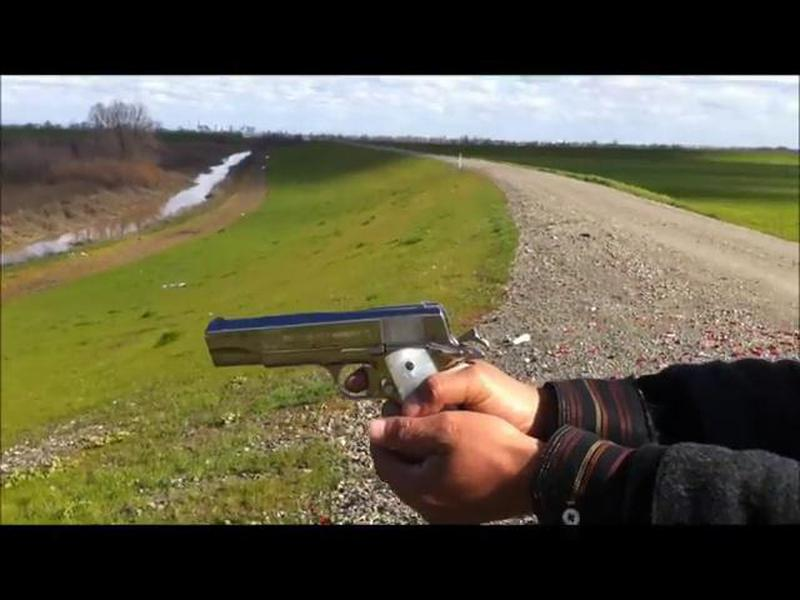Pistola: (204, 292, 503, 482)
